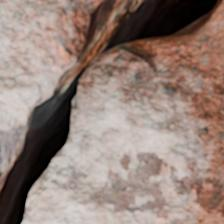broken_brick: (24, 3, 223, 223), (0, 0, 98, 168)
crack: (0, 0, 223, 223)
